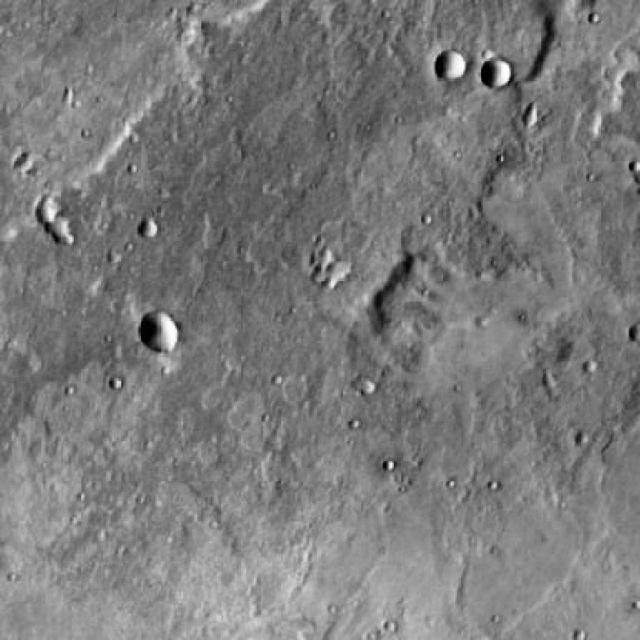crater: (144, 313, 182, 352), (436, 52, 466, 88), (482, 62, 509, 89), (41, 205, 64, 228), (18, 160, 38, 180), (54, 222, 74, 242), (137, 221, 155, 239)
